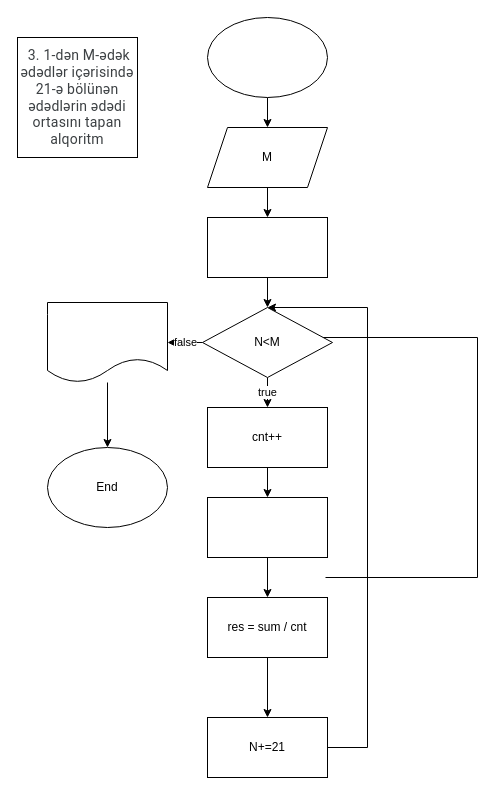
Some shapes in this 503 by 795 pixel diagram are drawn without their labels. Here are the shapes that lost their labels. From the top down, the centre of each, then its label:
At [267,57]: "Start".
At [267,247]: "N = 21 cnt = 0 sum = 0".
At [107,342]: "res".
At [267,527]: "sum+=N".
